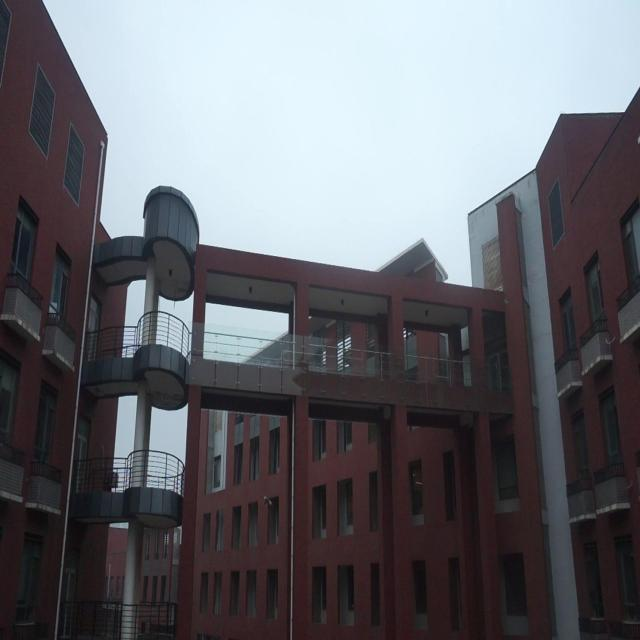drone: (261, 490, 274, 508)
